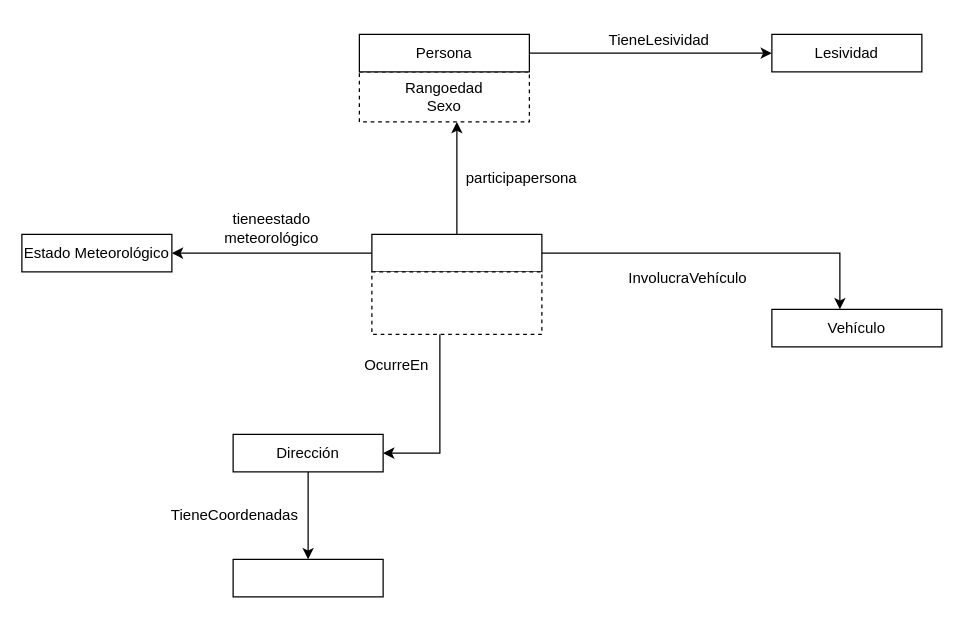
The diagram is 964 pixels wide and 619 high, and some of its shapes have lost their labels. The centre of each missing label's shape, as x and y in pixels:
"Accidente" belongs at (x=456, y=252).
"Coordenadas" belongs at (x=307, y=577).
"tipoAccidente alcohol droga" belongs at (x=456, y=302).
